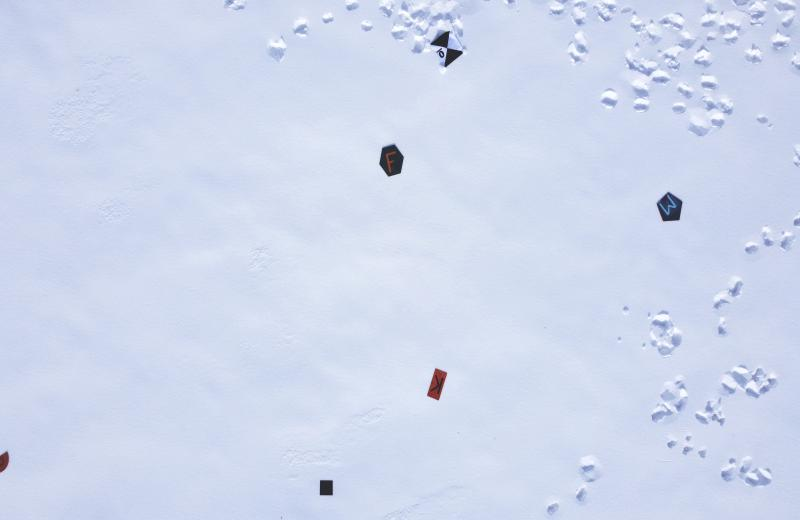Hexagon: (377, 141, 407, 182)
Pentagon: (651, 191, 686, 224)
Rectangle: (426, 362, 450, 402)
Square: (317, 476, 335, 500)
